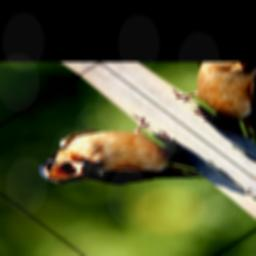Swallow: (23, 99, 217, 234)
